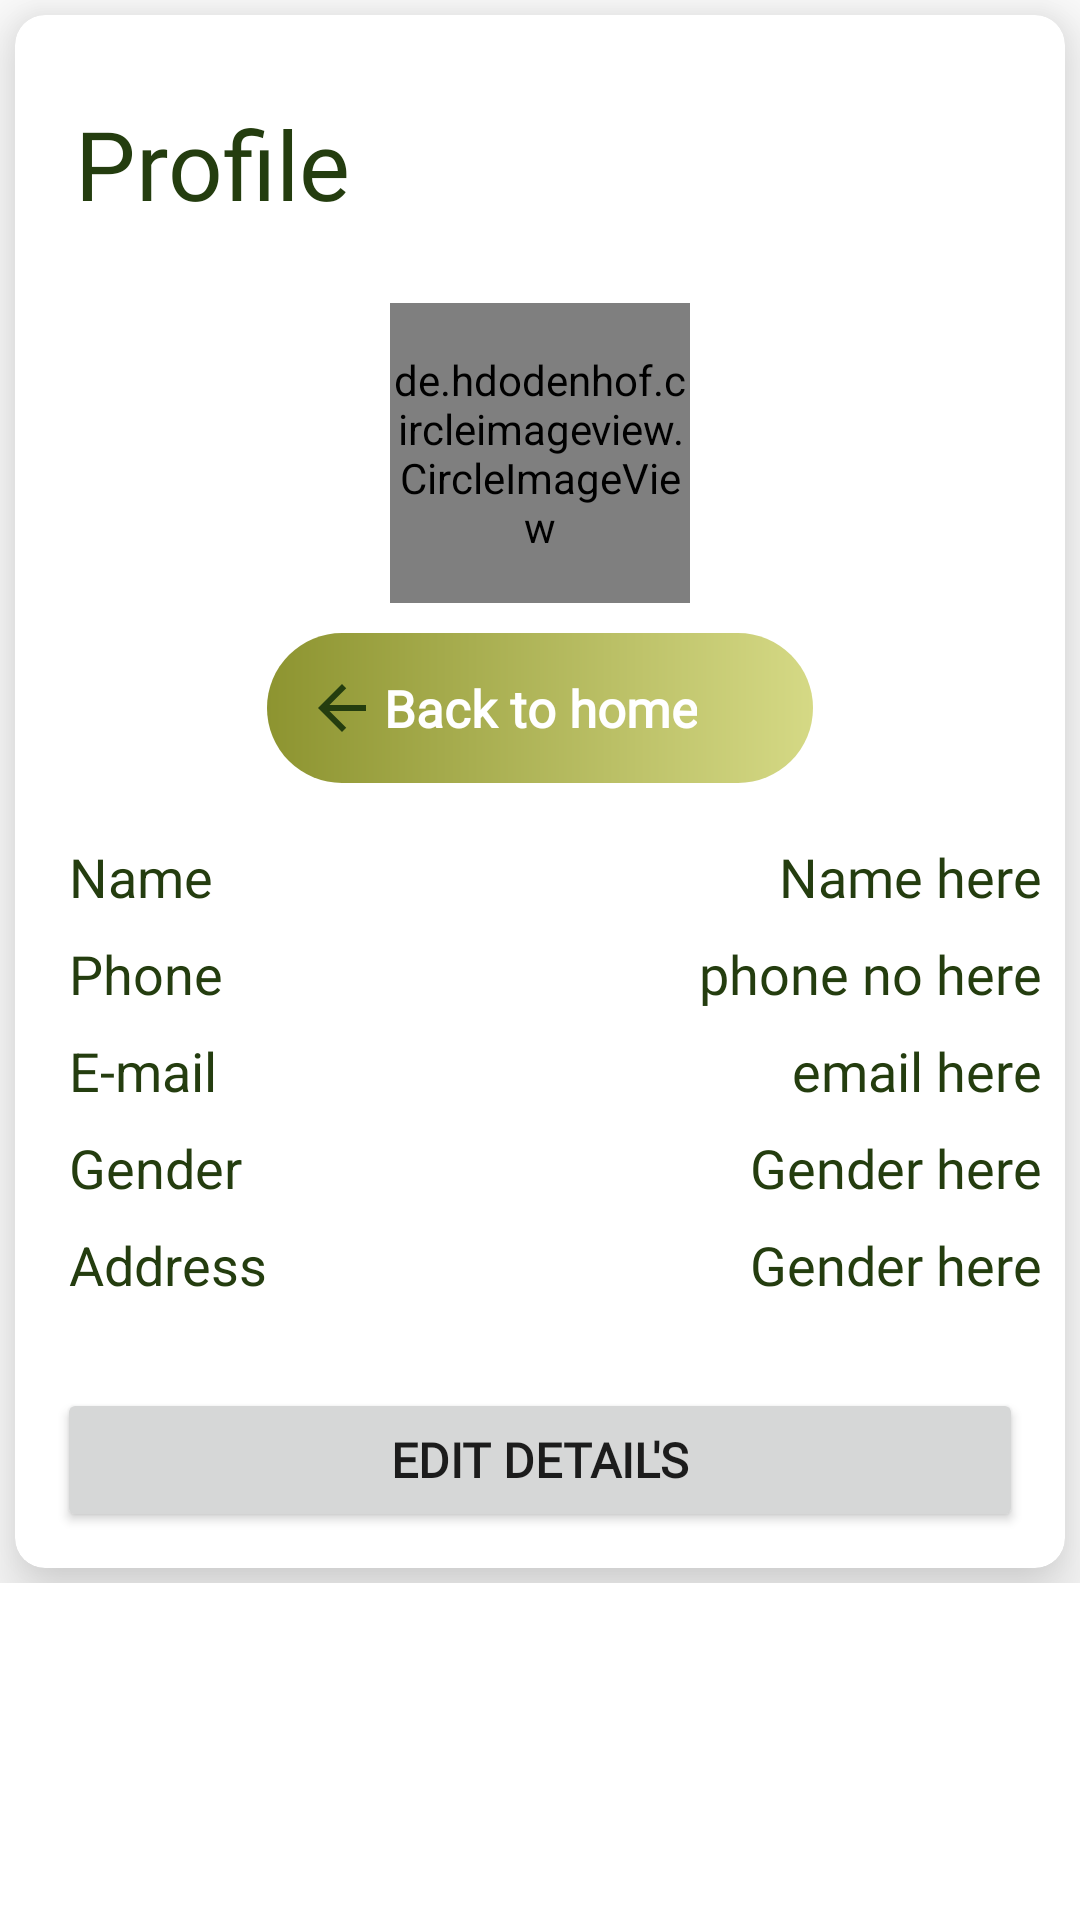

Locate icon controls on the screen. Image size 1080*1920, boxes as {"left": x1, "top": y1, "right": x2, "bottom": y2}.
back arrow: {"left": 318, "top": 684, "right": 366, "bottom": 732}
